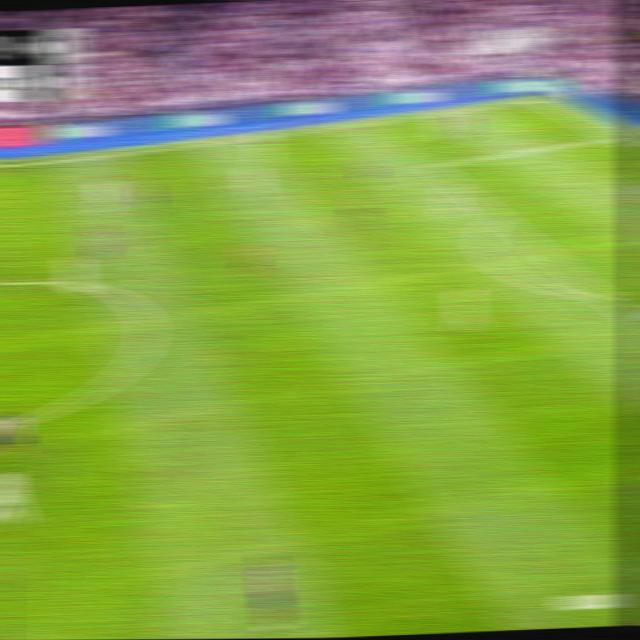bigarea_top_inner: (421, 156, 443, 174)
bigarea_top_outter: (599, 127, 623, 143)
bottom_arc_area_intersection: (592, 286, 616, 308)
corner: (523, 92, 546, 105)
smallarea_top_inner: (616, 177, 639, 194)
top_arc_area_intersection: (486, 207, 509, 225)
